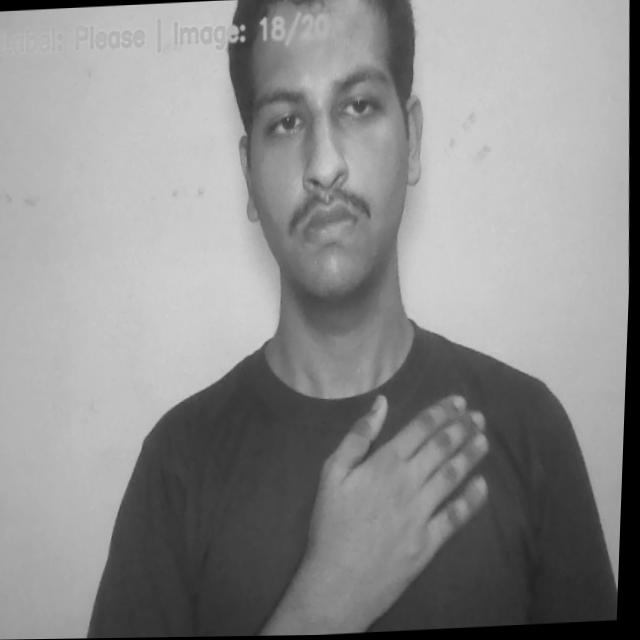Please: (306, 391, 502, 635)
